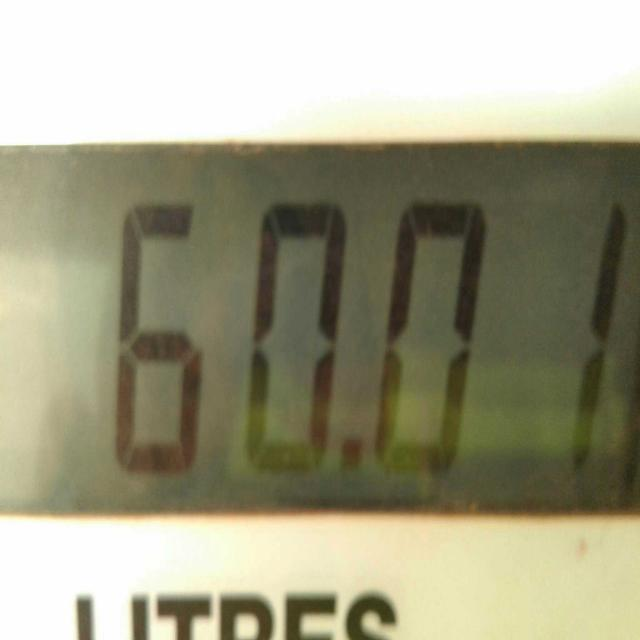.: (333, 428, 366, 472)
0: (374, 198, 488, 478), (241, 197, 347, 480)
1: (565, 202, 628, 476)
6: (116, 199, 206, 485)
screen: (0, 143, 640, 520)
